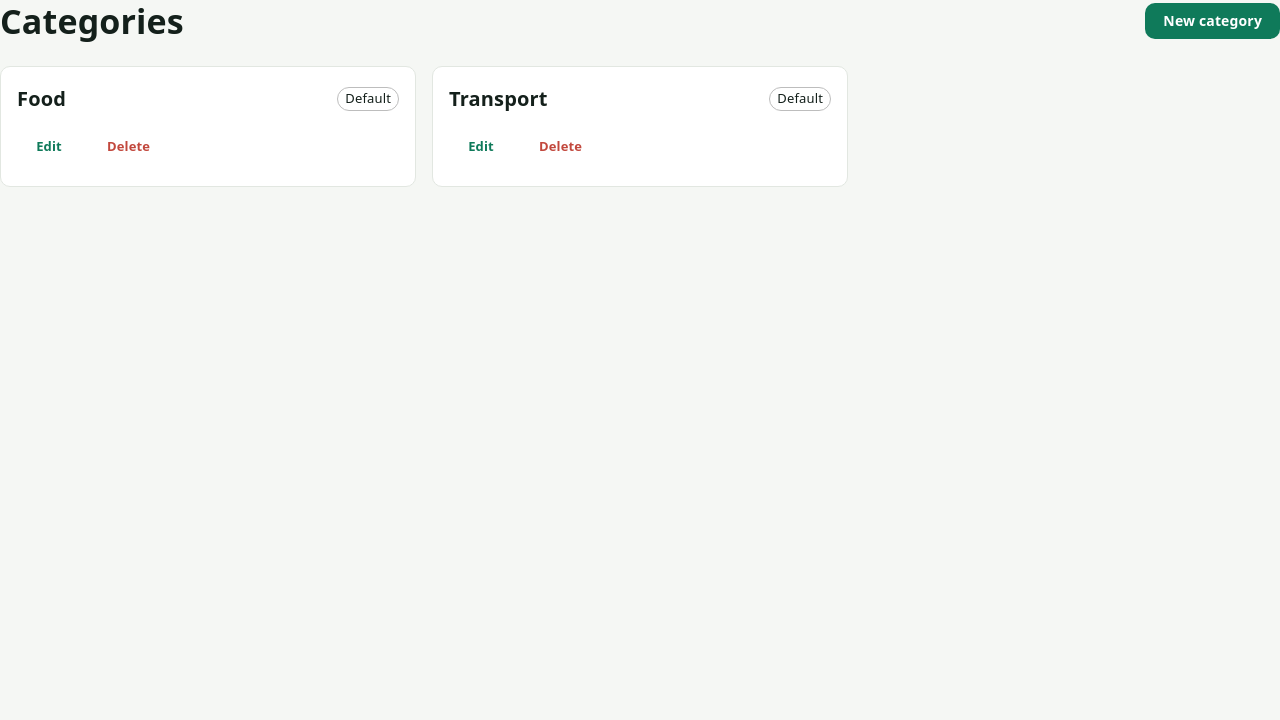
Test case: CategoriesPage › creates a new category
The width and height of the screenshot is (1280, 720).
Click the button "New category".
click(1213, 21)  # box [1145,3,1279,39]
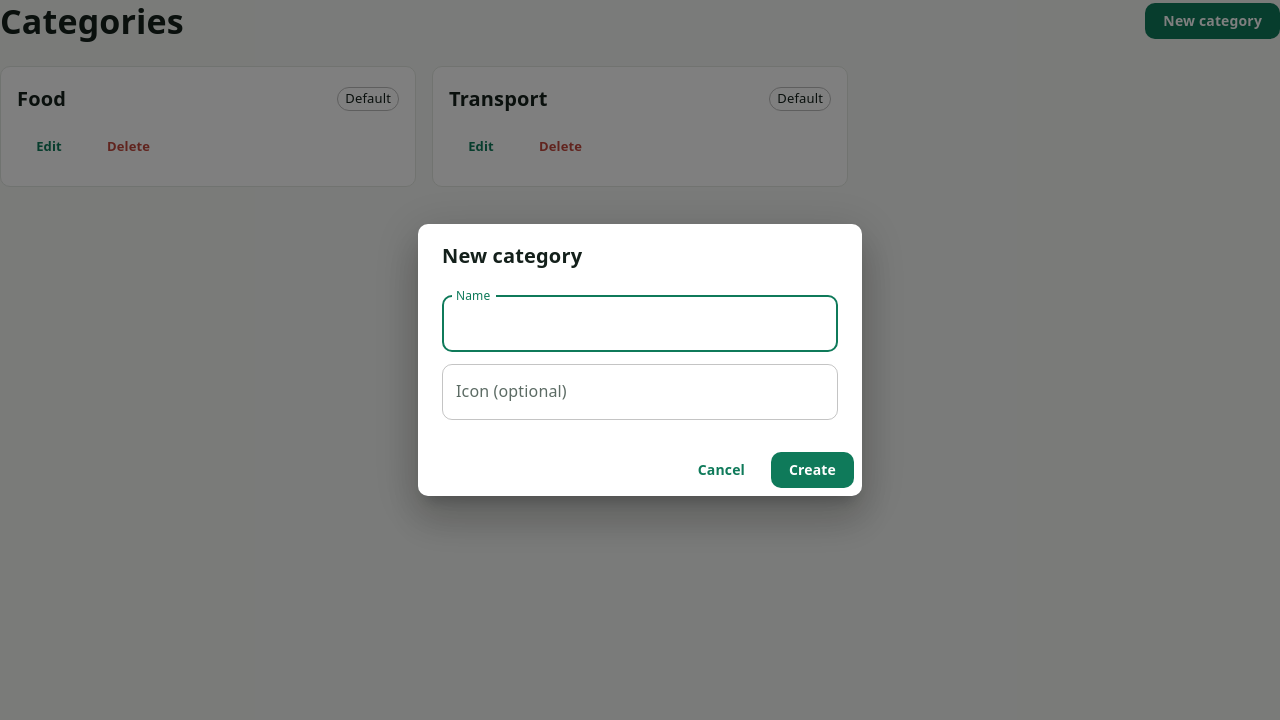
Type "Travel" into the field labelled "Name".
click(640, 324); type("Travel")  # box [442,296,838,352]
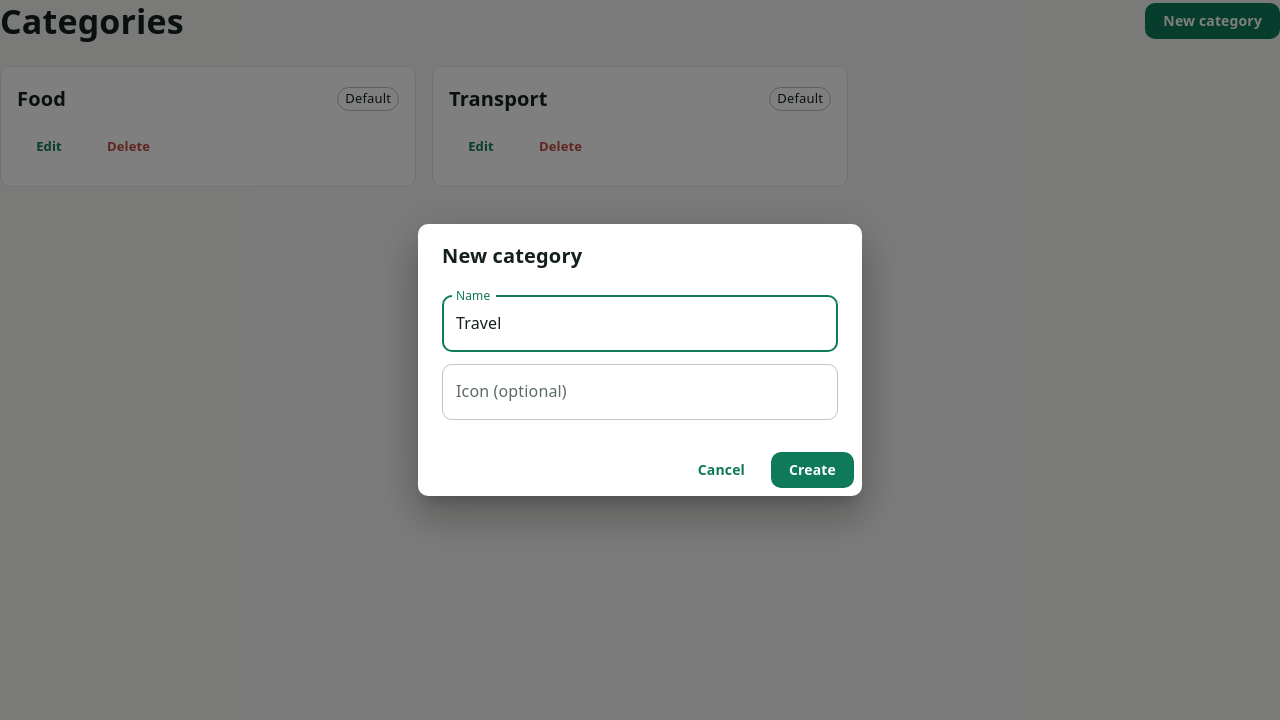
Click the button "Create".
click(812, 470)  # box [771,452,854,488]
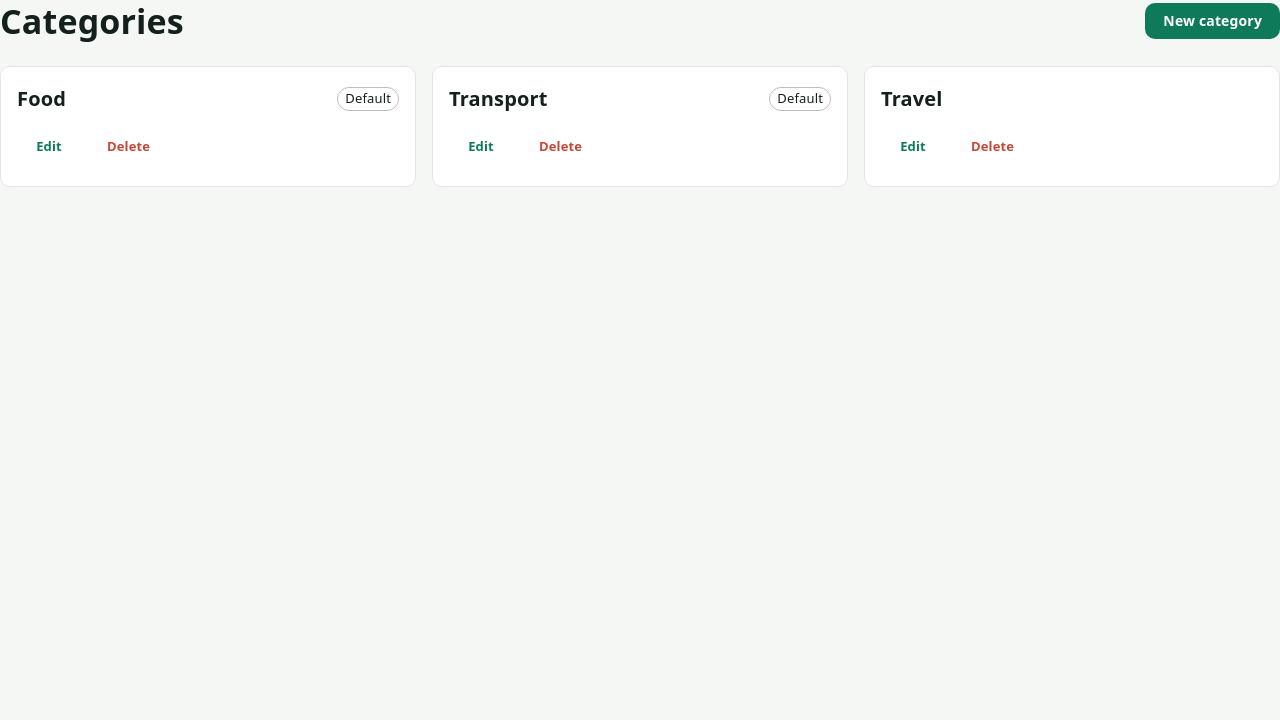
Now the heading "Travel" is shown, box [881,83,942,115]
